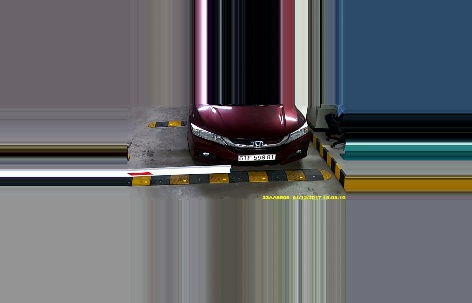plate: (236, 150, 278, 163)
